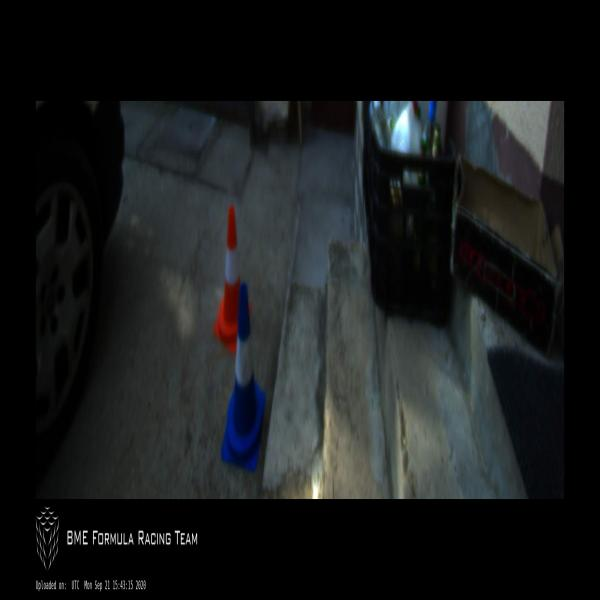blue_cone: (221, 282, 266, 469)
orange_cone: (212, 202, 252, 354)
